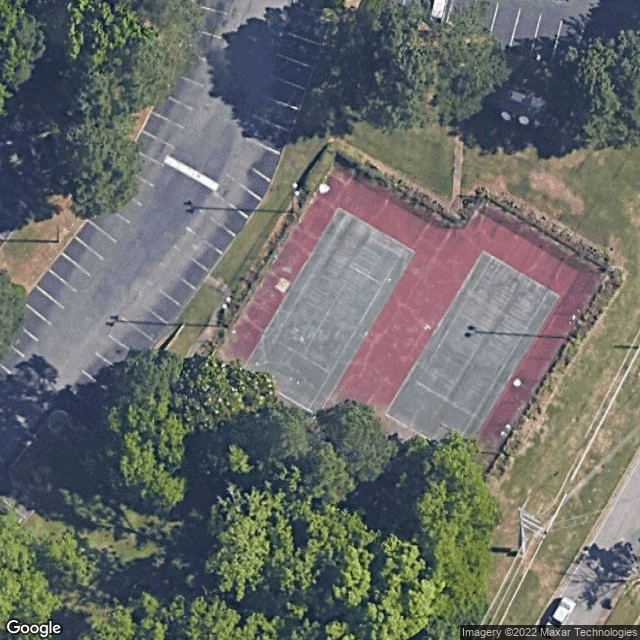Court: (384, 248, 562, 460), (240, 205, 415, 415)
